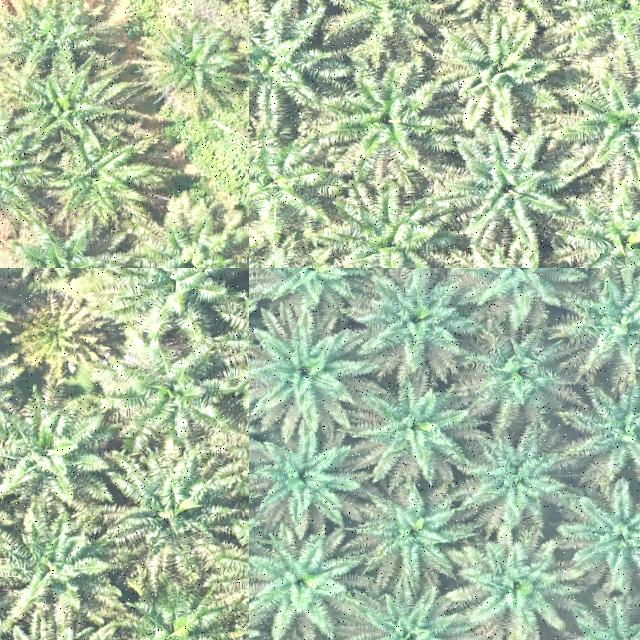Ganoderma: (15, 300, 97, 372)
